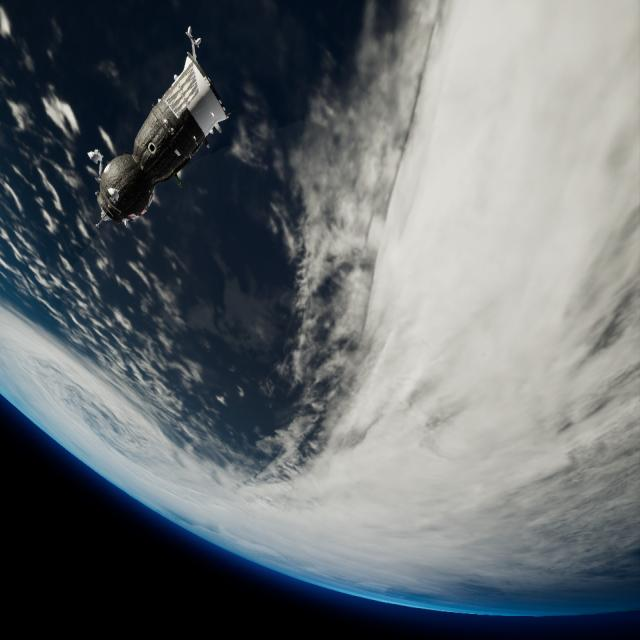Satellites revolving around earth: (87, 24, 233, 230)
